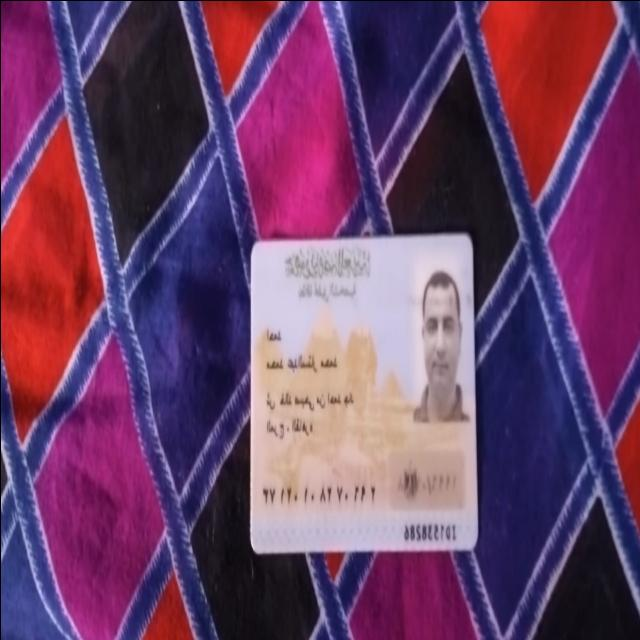ID-cards: (244, 221, 487, 570)
